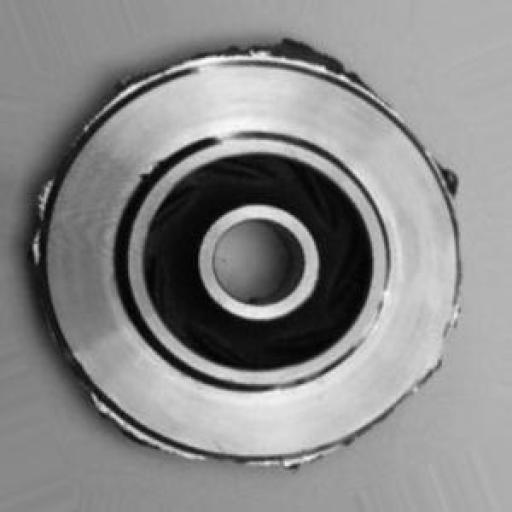defect: (28, 21, 483, 481)
